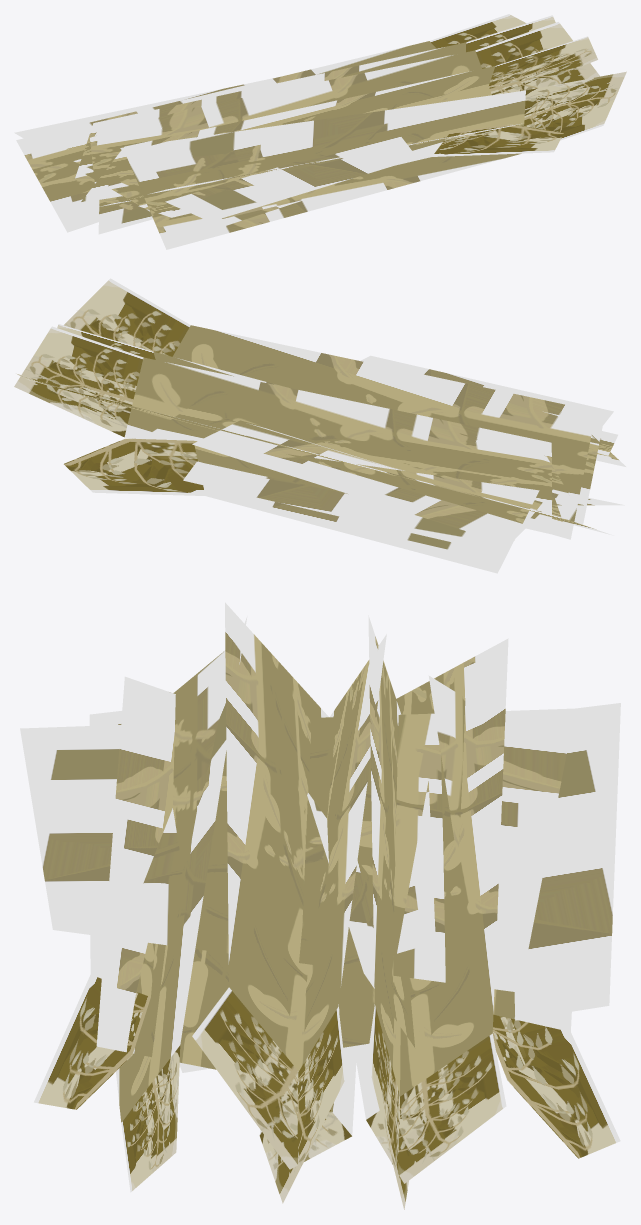
The model's file is PT_Oat_01_cut_down.fbx.
3 renders of one model, top to bottom at view 1: azimuth 30°, elevation 25°; view 2: azimuth 150°, elevation 25°; view 3: azimuth 270°, elevation 25°, orthographic. The views are drawn at different scales.
Parts seen in each view (by area): view 1: PT_Oat_01_cut_down_LOD0; view 2: PT_Oat_01_cut_down_LOD0; view 3: PT_Oat_01_cut_down_LOD0.
Boxes of the visible parts, x1,y1,x2,y2 form: PT_Oat_01_cut_down_LOD0: [14, 14, 626, 249]; PT_Oat_01_cut_down_LOD0: [14, 278, 625, 573]; PT_Oat_01_cut_down_LOD0: [20, 602, 620, 1209].
Size of what is drawn, in the model's own units: 163 by 28.48 by 80.09.
